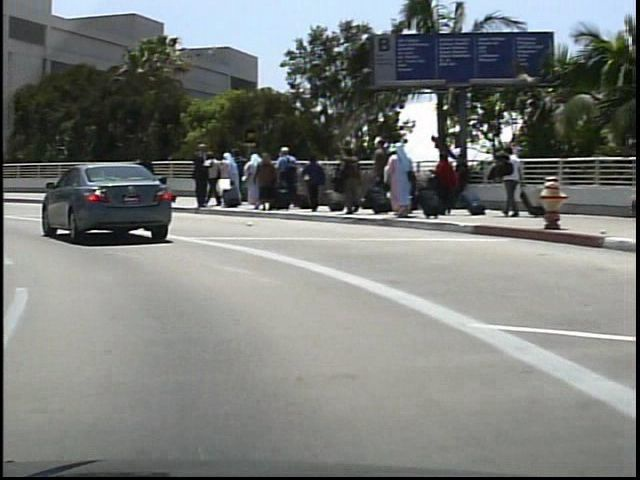person: (494, 140, 523, 222), (124, 148, 152, 212), (188, 140, 210, 214), (197, 148, 220, 209), (138, 153, 157, 196)
